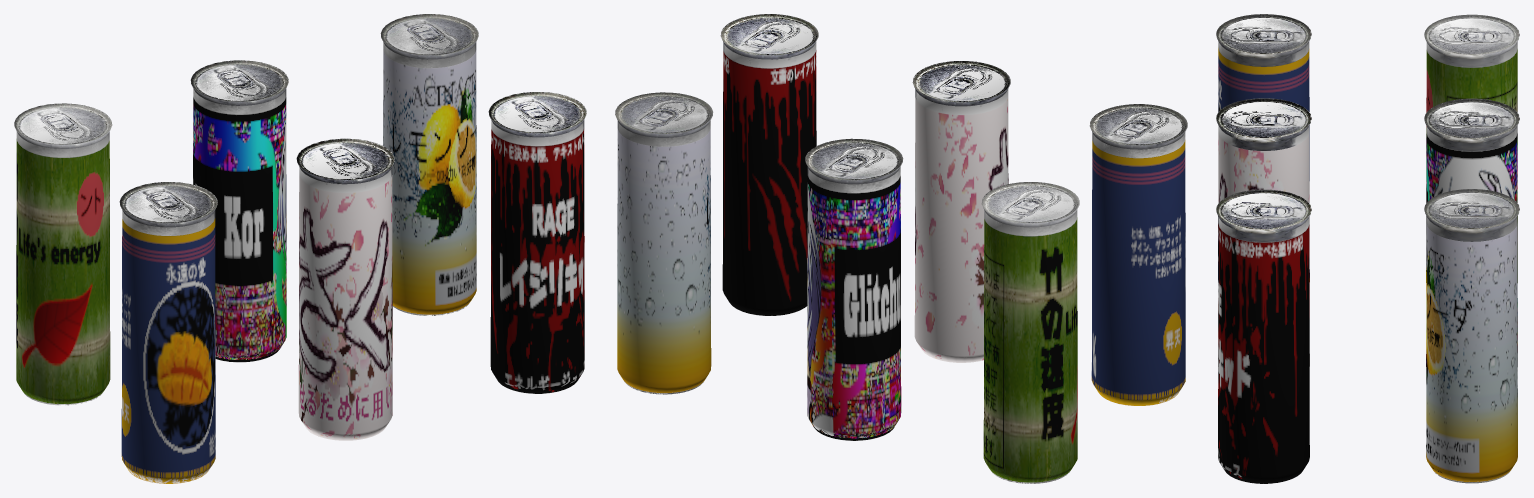
File: SodaCans.fbx
3 views of the same model, side by side, from view 1: azimuth 30°, elevation 25°; view 2: azimuth 150°, elevation 25°; view 3: azimuth 270°, elevation 25° (orthographic). The views are drawn at different scales.
Visible parts, largest first — view 1: Cylinder.005, Cylinder.004, Cylinder.001, Cylinder.003, Cylinder.002, Cylinder.000; view 2: Cylinder.001, Cylinder.000, Cylinder.002, Cylinder.003, Cylinder.004, Cylinder.005; view 3: Cylinder.002, Cylinder.004, Cylinder.005, Cylinder.000, Cylinder.003, Cylinder.001.
Boxes of the visible parts, x1=… form: Cylinder.005: x1=296, y1=138, x2=394, y2=440; Cylinder.004: x1=488, y1=92, x2=586, y2=393; Cylinder.001: x1=14, y1=103, x2=112, y2=405; Cylinder.003: x1=119, y1=182, x2=217, y2=483; Cylinder.002: x1=380, y1=14, x2=478, y2=315; Cylinder.000: x1=190, y1=60, x2=288, y2=362; Cylinder.001: x1=981, y1=182, x2=1079, y2=483; Cylinder.000: x1=805, y1=138, x2=903, y2=440; Cylinder.002: x1=615, y1=92, x2=713, y2=394; Cylinder.003: x1=1089, y1=104, x2=1187, y2=405; Cylinder.004: x1=720, y1=14, x2=818, y2=315; Cylinder.005: x1=912, y1=61, x2=1010, y2=362; Cylinder.002: x1=1424, y1=189, x2=1519, y2=483; Cylinder.004: x1=1216, y1=189, x2=1311, y2=483; Cylinder.005: x1=1216, y1=98, x2=1311, y2=366; Cylinder.000: x1=1424, y1=98, x2=1519, y2=366; Cylinder.003: x1=1216, y1=14, x2=1311, y2=282; Cylinder.001: x1=1424, y1=14, x2=1519, y2=282.
Bounding box in the file's own units: 914 × 507 × 543.
